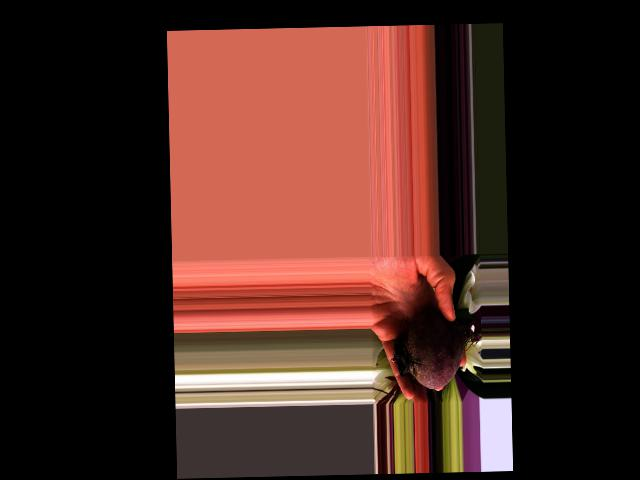beet: (390, 308, 483, 390)
